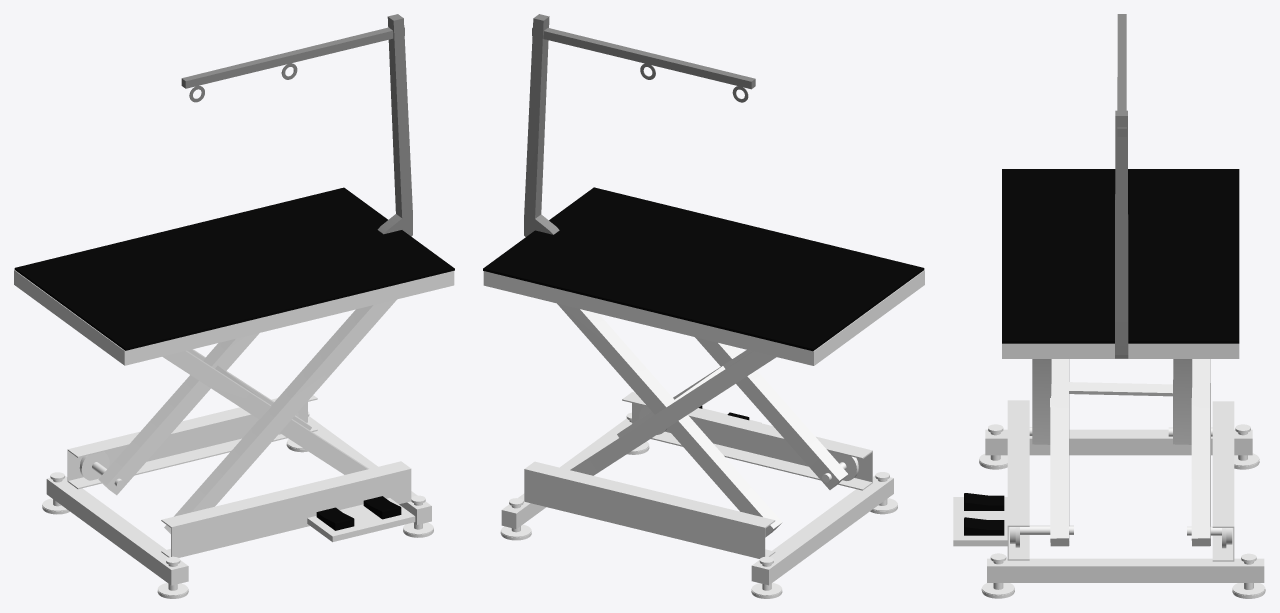
Rendered from GroomingTable2.fbx.
3 renders of one model, left to right at view 1: azimuth 30°, elevation 25°; view 2: azimuth 150°, elevation 25°; view 3: azimuth 270°, elevation 25°, orthographic. The views are drawn at different scales.
Parts seen in each view (by area): view 1: Cube.008, Cube.001, Circle.008, Circle.002, Cube.010; view 2: Cube.008, Cube.001, Circle.008, Circle.002; view 3: Cube.001, Cube.008, Circle.008, Circle.002, Cube.010.
Boxes of the visible parts, left/top/right/bottom form: Cube.008: left=14, top=270, right=454, bottom=585; Cube.001: left=14, top=187, right=454, bottom=350; Circle.008: left=181, top=14, right=412, bottom=236; Circle.002: left=42, top=411, right=433, bottom=598; Cube.010: left=316, top=496, right=401, bottom=530; Cube.008: left=483, top=270, right=924, bottom=585; Cube.001: left=483, top=187, right=924, bottom=351; Circle.008: left=524, top=14, right=755, bottom=236; Circle.002: left=500, top=406, right=897, bottom=598; Cube.001: left=1002, top=169, right=1239, bottom=343; Cube.008: left=953, top=343, right=1264, bottom=582; Circle.008: left=1115, top=14, right=1128, bottom=358; Circle.002: left=979, top=424, right=1265, bottom=598; Cube.010: left=964, top=493, right=1004, bottom=535.
Size of the model in its own units: 710 by 922 by 525.
